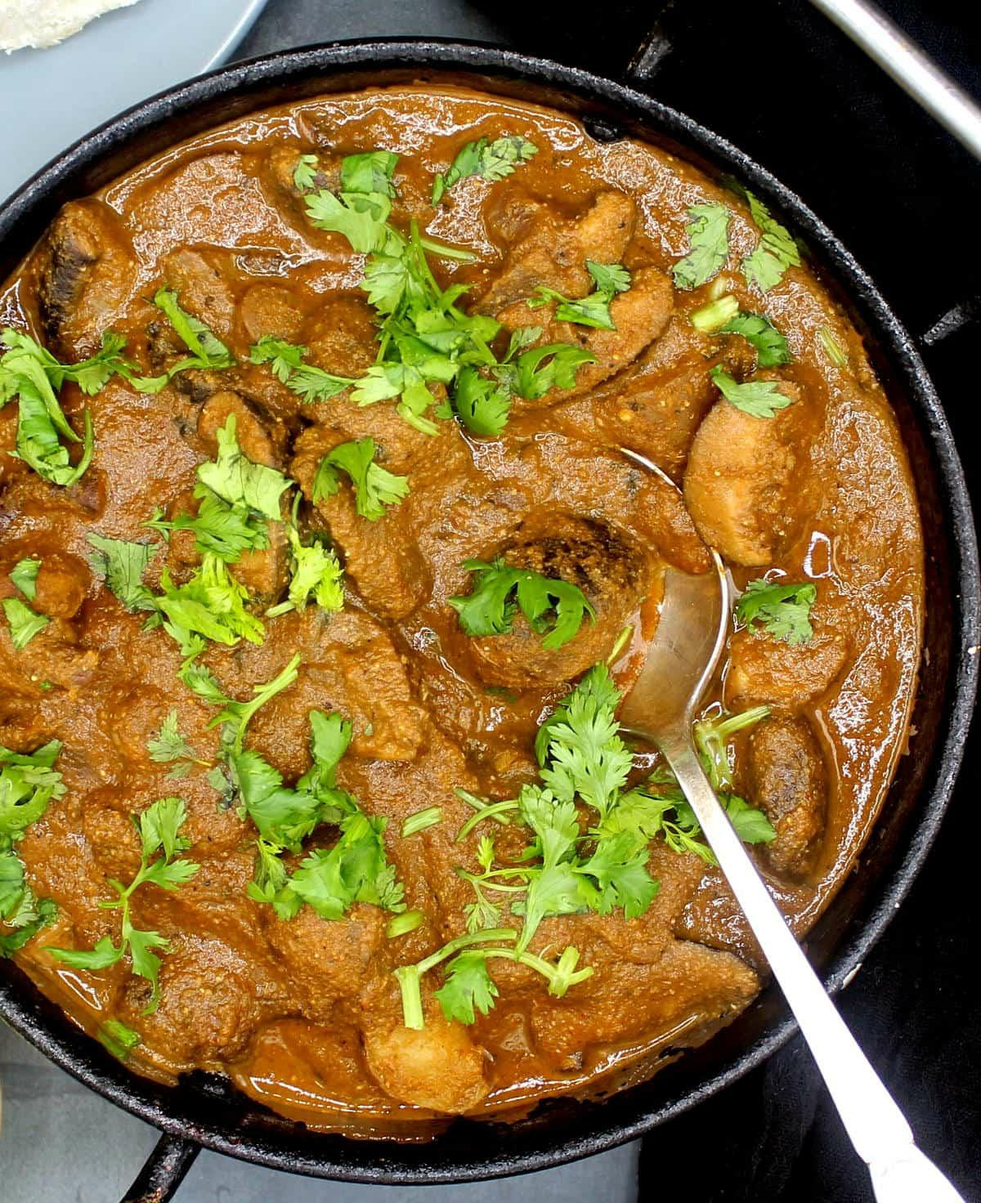MuttonCurry: (0, 76, 922, 1124)
